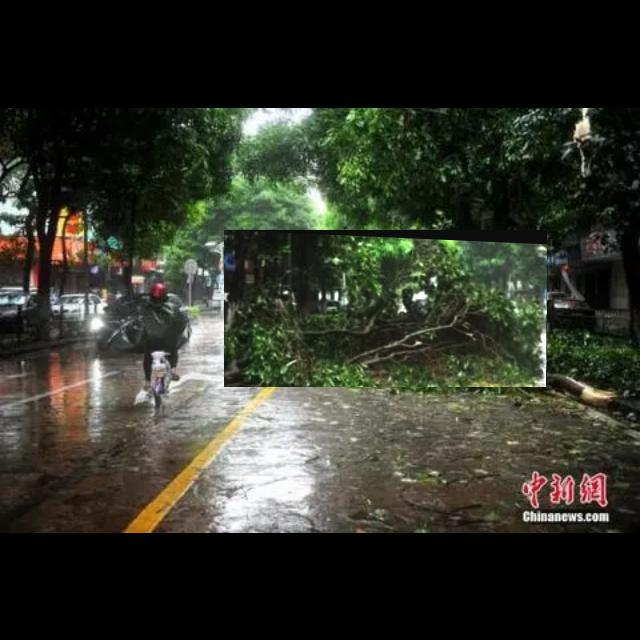fallen_tree: (224, 230, 548, 388)
